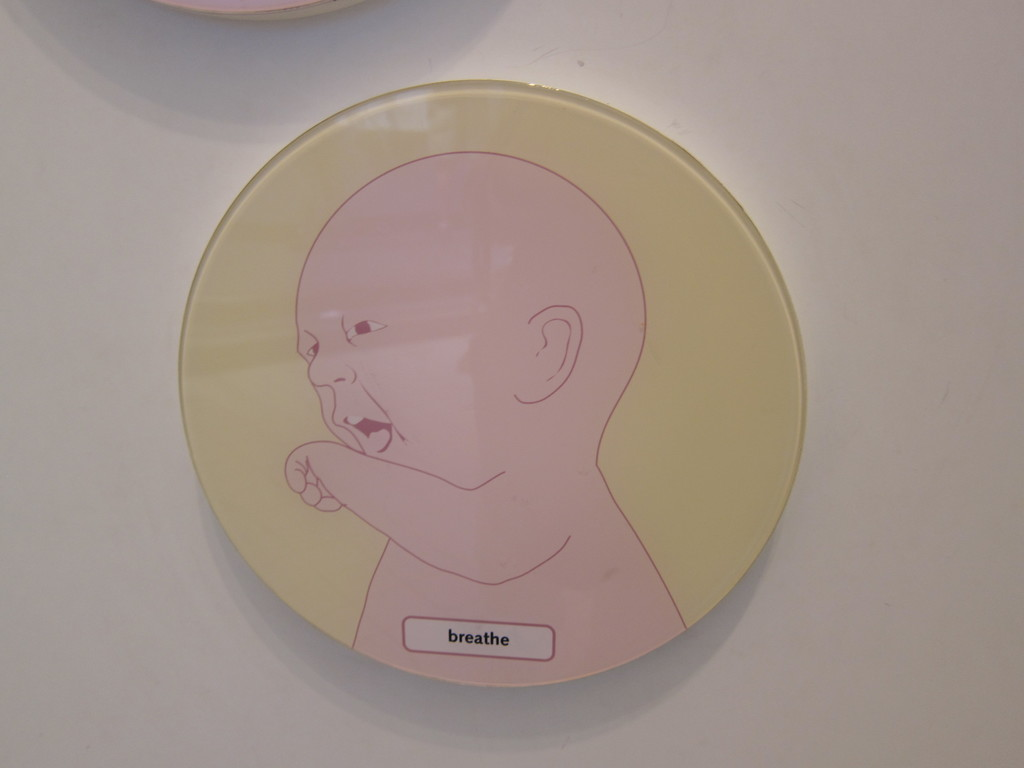plate: (176, 44, 842, 707)
